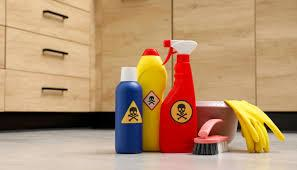cleaning chemical: (160, 38, 197, 153), (115, 66, 143, 156), (141, 50, 166, 150)
